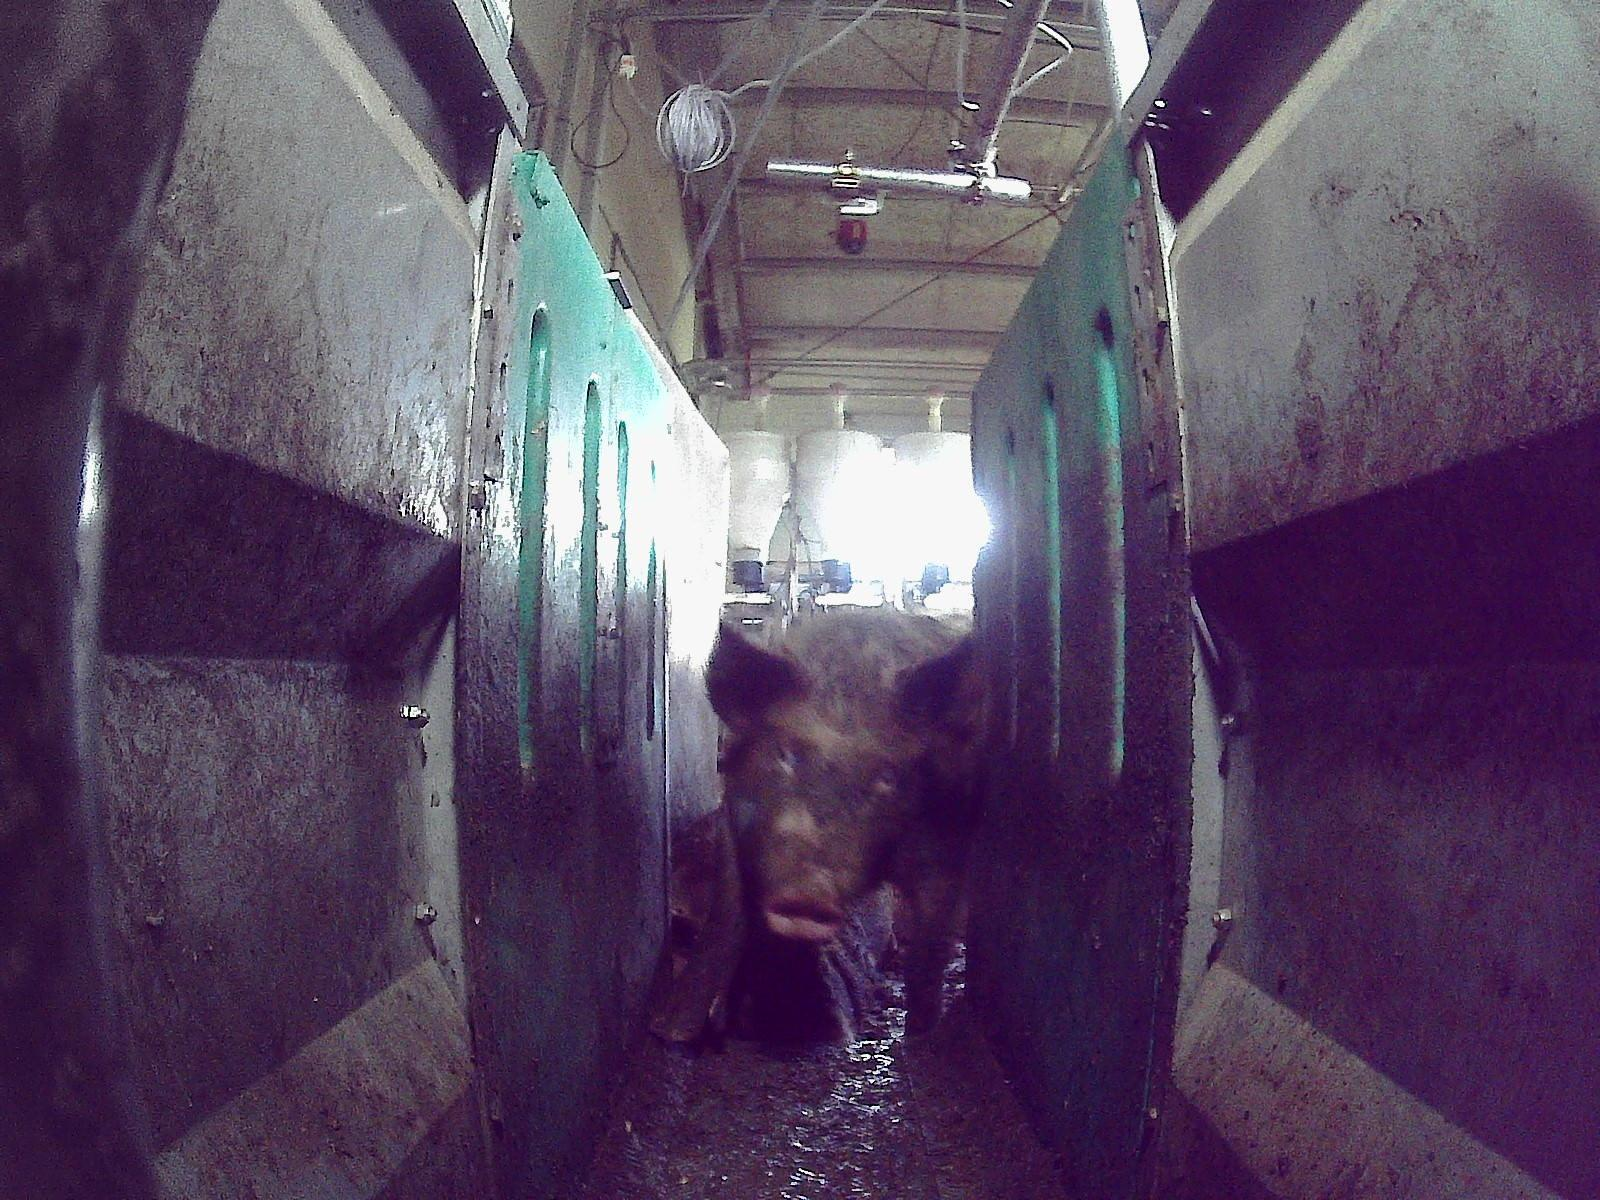Face: (737, 691, 905, 941)
